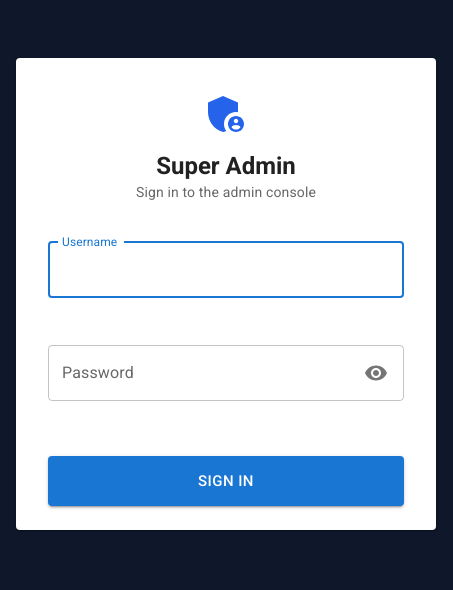
Test: AdminLogin › shows error for non-admin user
Type "regular" into the field named "username".
click(226, 270); type("regular")  # box [48,242,404,298]
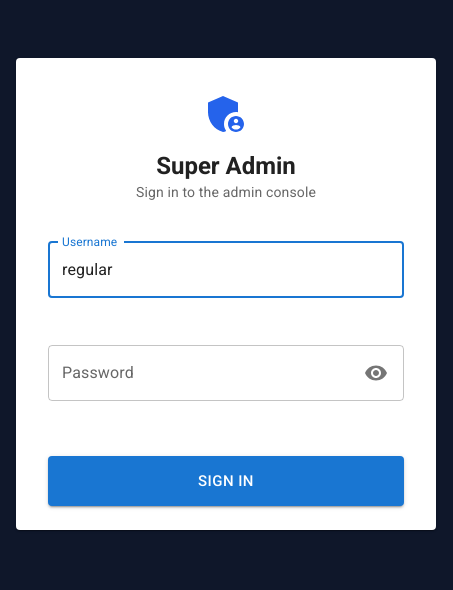
Type "password123" into the password field named "password".
click(200, 373); type("password123")  # box [48,345,351,401]
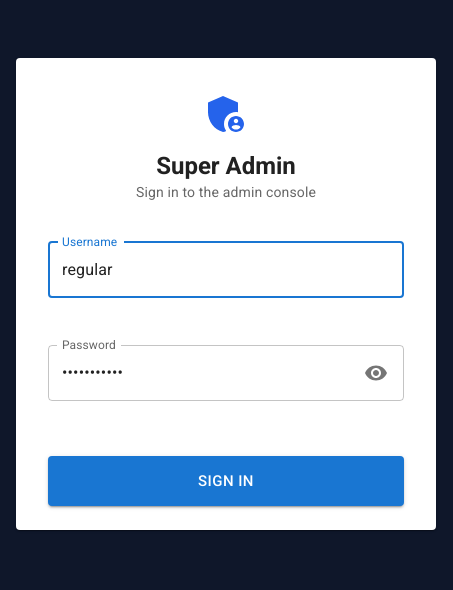
Click the button "Sign In".
click(226, 481)  # box [48,456,404,506]
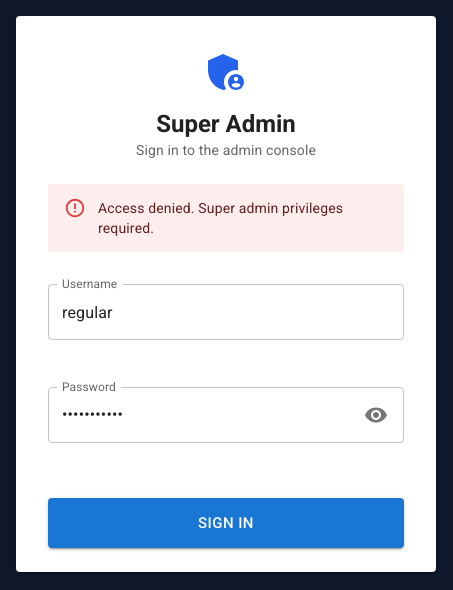
Check: the text "Access denied. Super admin privileges required." is shown, box [98,200,343,236]
